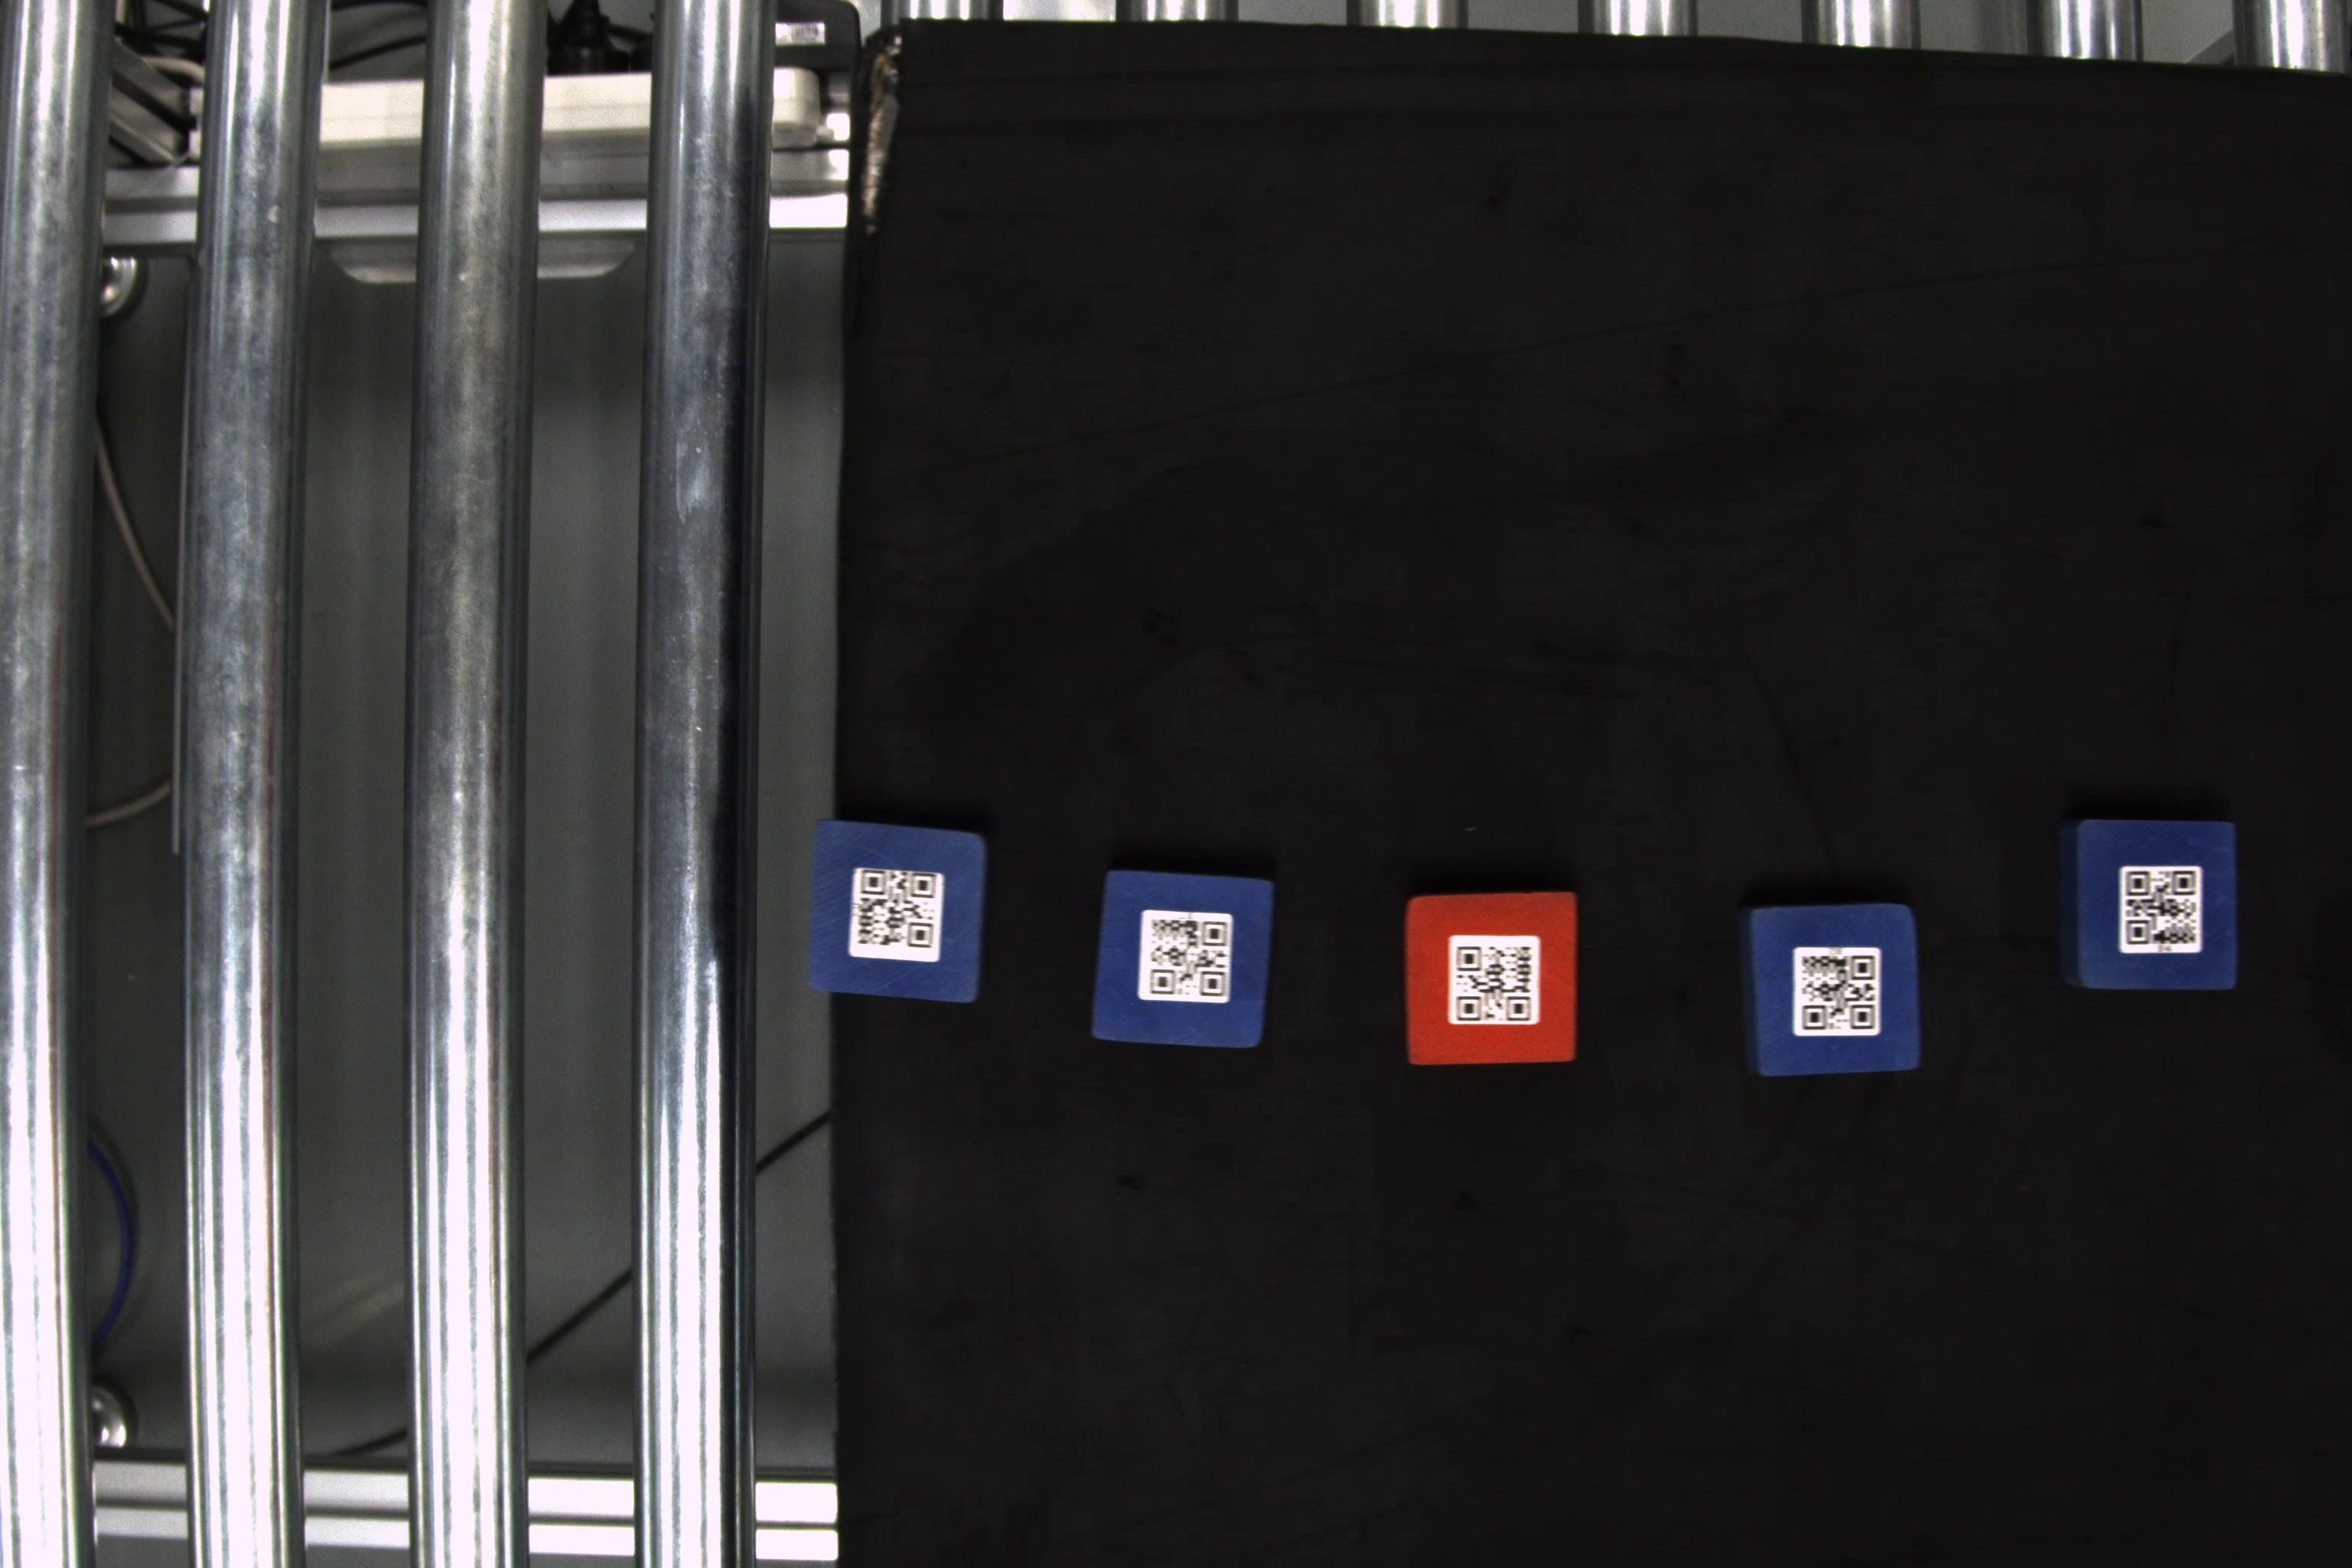wood: (2058, 817, 2243, 997), (1097, 868, 1281, 1048), (814, 817, 992, 1003), (1739, 906, 1925, 1085), (1402, 887, 1584, 1066)
